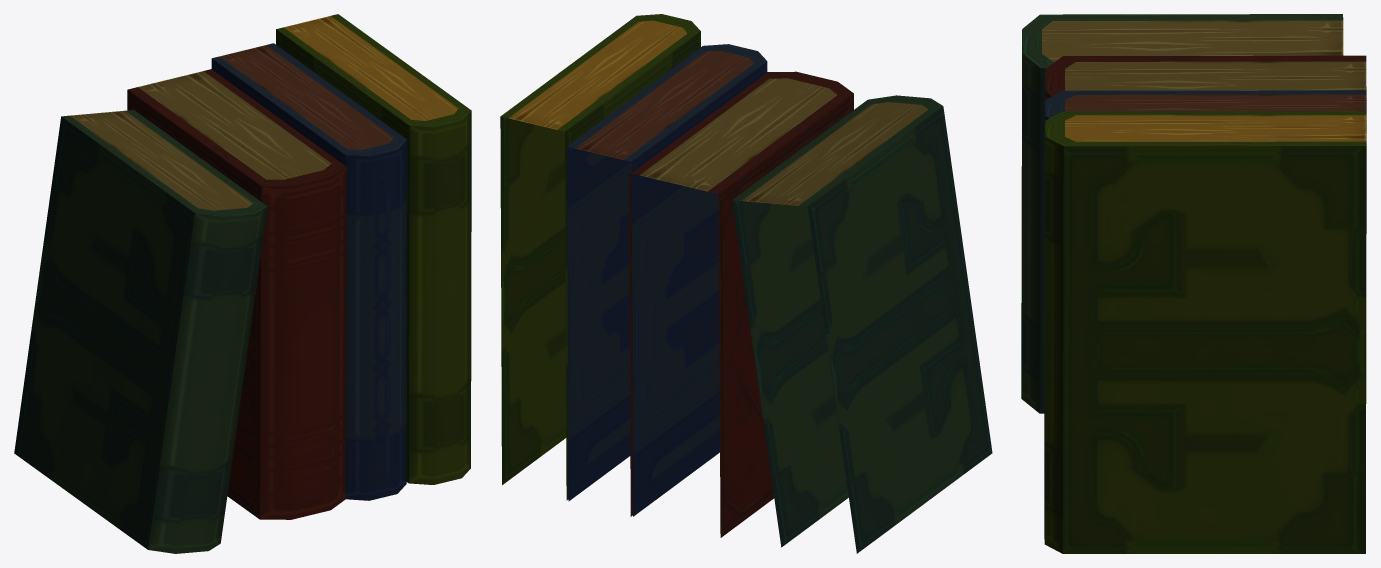
File: BookGroup_Small_1.gltf
The picture shows the model from 3 angles, left to right: view 1: azimuth 30°, elevation 25°; view 2: azimuth 150°, elevation 25°; view 3: azimuth 270°, elevation 25°; orthographic projection. The views are drawn at different scales.
Visible parts, largest first — view 1: BookGroup_Small_1; view 2: BookGroup_Small_1; view 3: BookGroup_Small_1.
Part boxes in pixels (x1,y1,x2,y2): BookGroup_Small_1: [14, 14, 471, 553]; BookGroup_Small_1: [500, 14, 992, 553]; BookGroup_Small_1: [1021, 14, 1366, 553].
Size of the model in its own units: 0.2893 by 0.2983 by 0.2256.
1 material, 1 textured.
